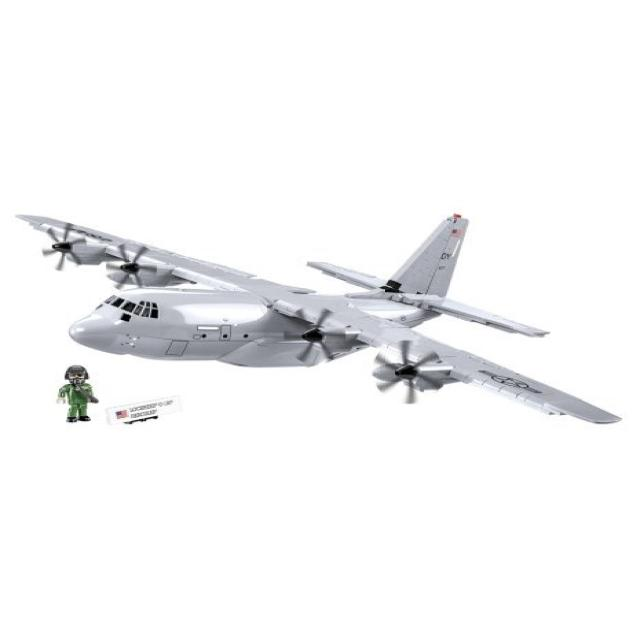C130: (4, 165, 640, 458)
